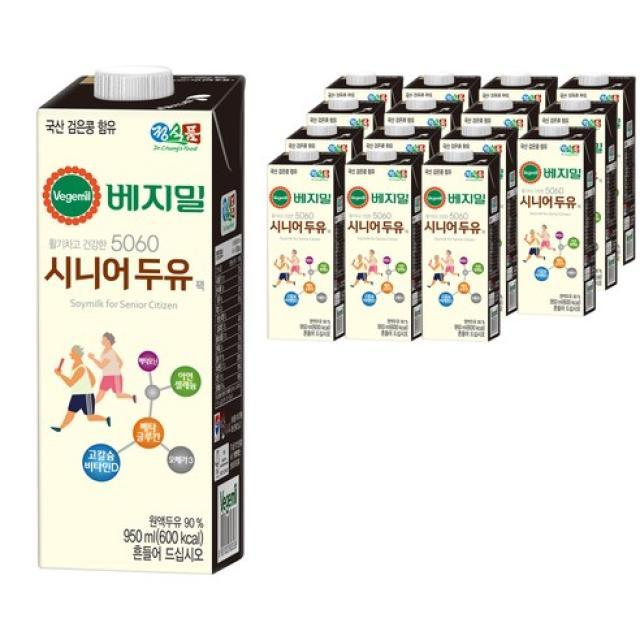Tetra: (22, 55, 260, 583), (258, 138, 349, 365), (512, 111, 602, 340), (423, 147, 507, 365), (344, 147, 426, 343)
